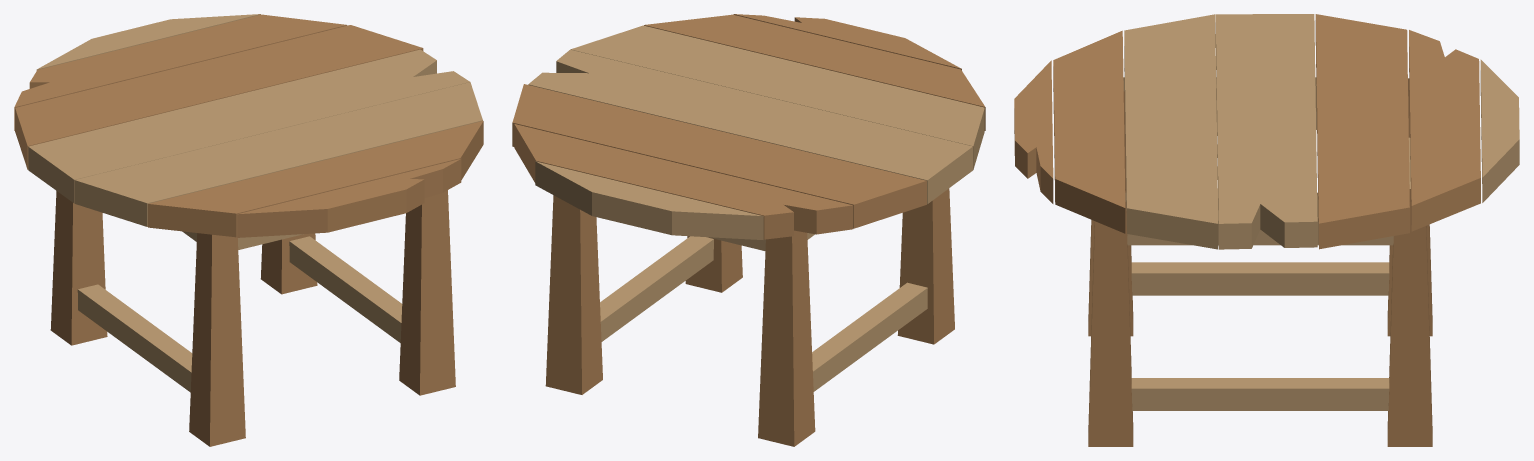
Rendered from table_rounded.fbx.
3 renders of one model, left to right at view 1: azimuth 30°, elevation 25°; view 2: azimuth 150°, elevation 25°; view 3: azimuth 270°, elevation 25°, orthographic. The views are drawn at different scales.
Visible parts, largest first — view 1: table_rounded; view 2: table_rounded; view 3: table_rounded.
Part boxes in pixels (<box>): table_rounded: <box>14,14,483,446</box>; table_rounded: <box>512,14,985,446</box>; table_rounded: <box>1014,14,1519,446</box>.
Size of the model in its own units: 186 by 108 by 189.
